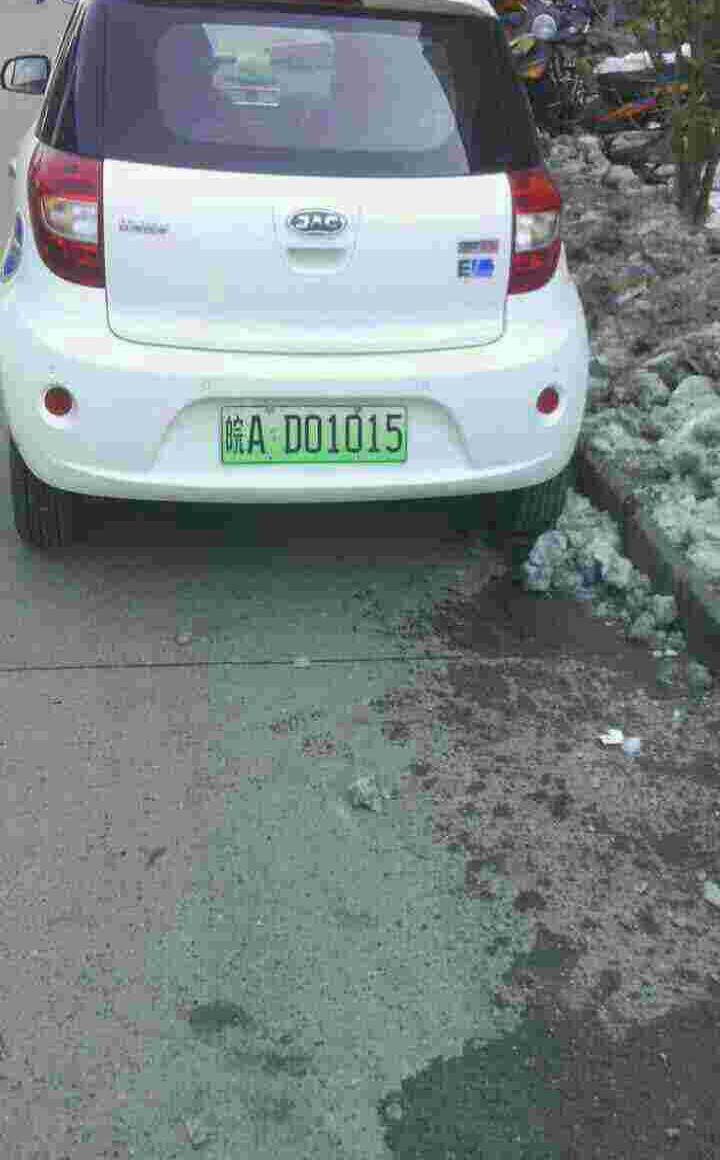car_green: (219, 399, 417, 469)
